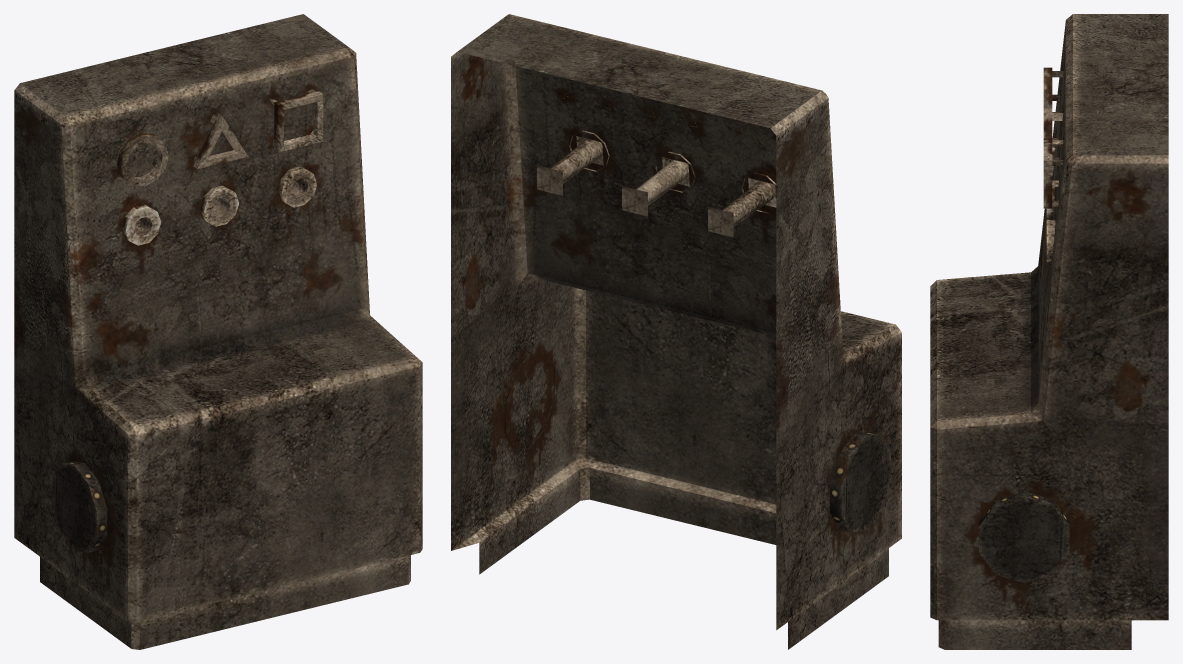
The model's file is guiding_rod_machine.dae.
The picture shows the model from 3 angles, left to right: view 1: azimuth 30°, elevation 25°; view 2: azimuth 150°, elevation 25°; view 3: azimuth 270°, elevation 25°; orthographic projection. The views are drawn at different scales.
Visible parts, largest first — view 1: guiding_rod_machine; view 2: guiding_rod_machine; view 3: guiding_rod_machine.
Boxes of the visible parts, x1,y1,x2,y2 form: guiding_rod_machine: (14, 14, 422, 649); guiding_rod_machine: (451, 14, 901, 649); guiding_rod_machine: (930, 14, 1168, 649).
Bounding box in the file's own units: 1.42 × 2.08 × 0.9071.
